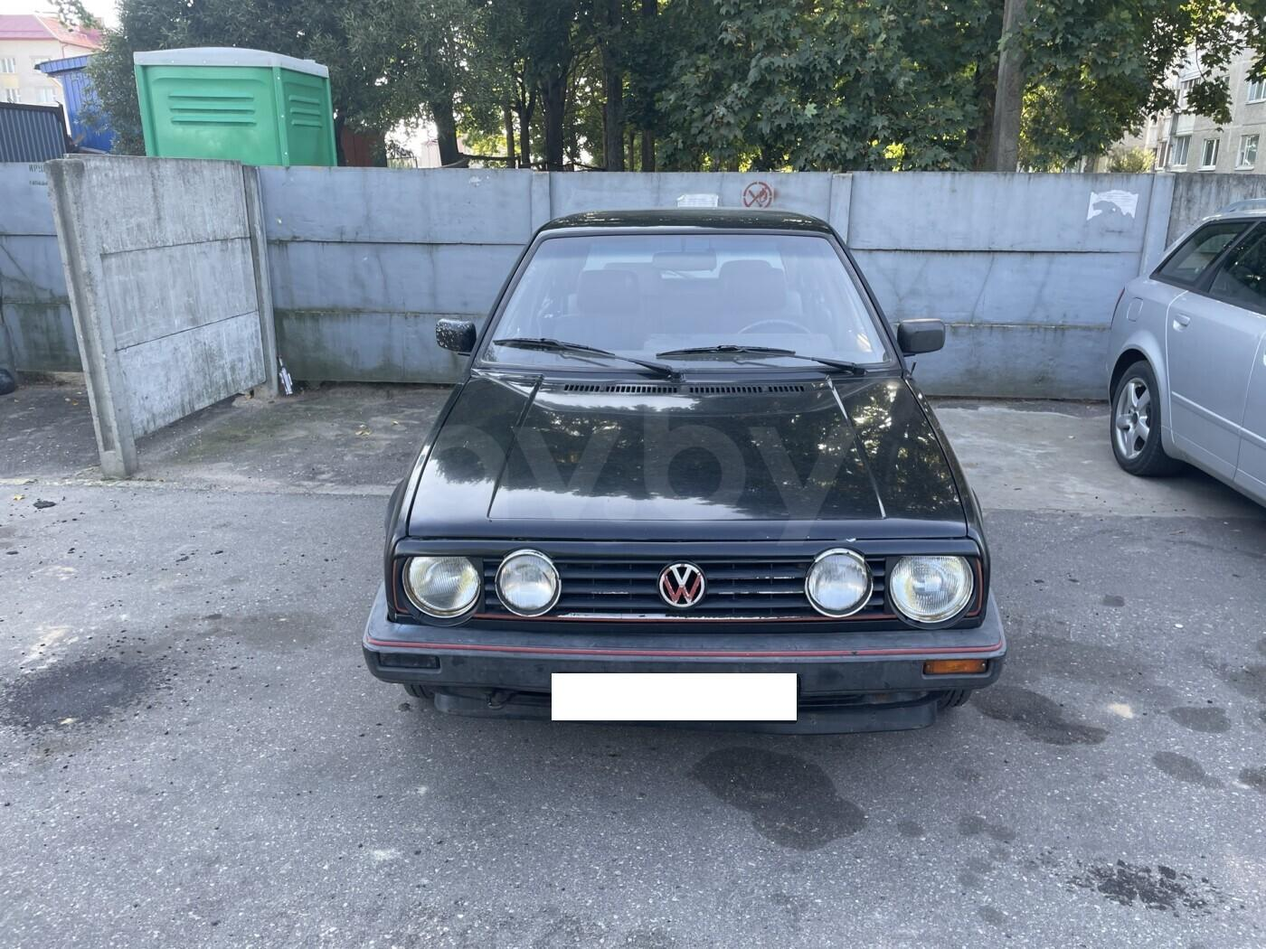Golf_1983-1992: (365, 203, 1012, 744)
